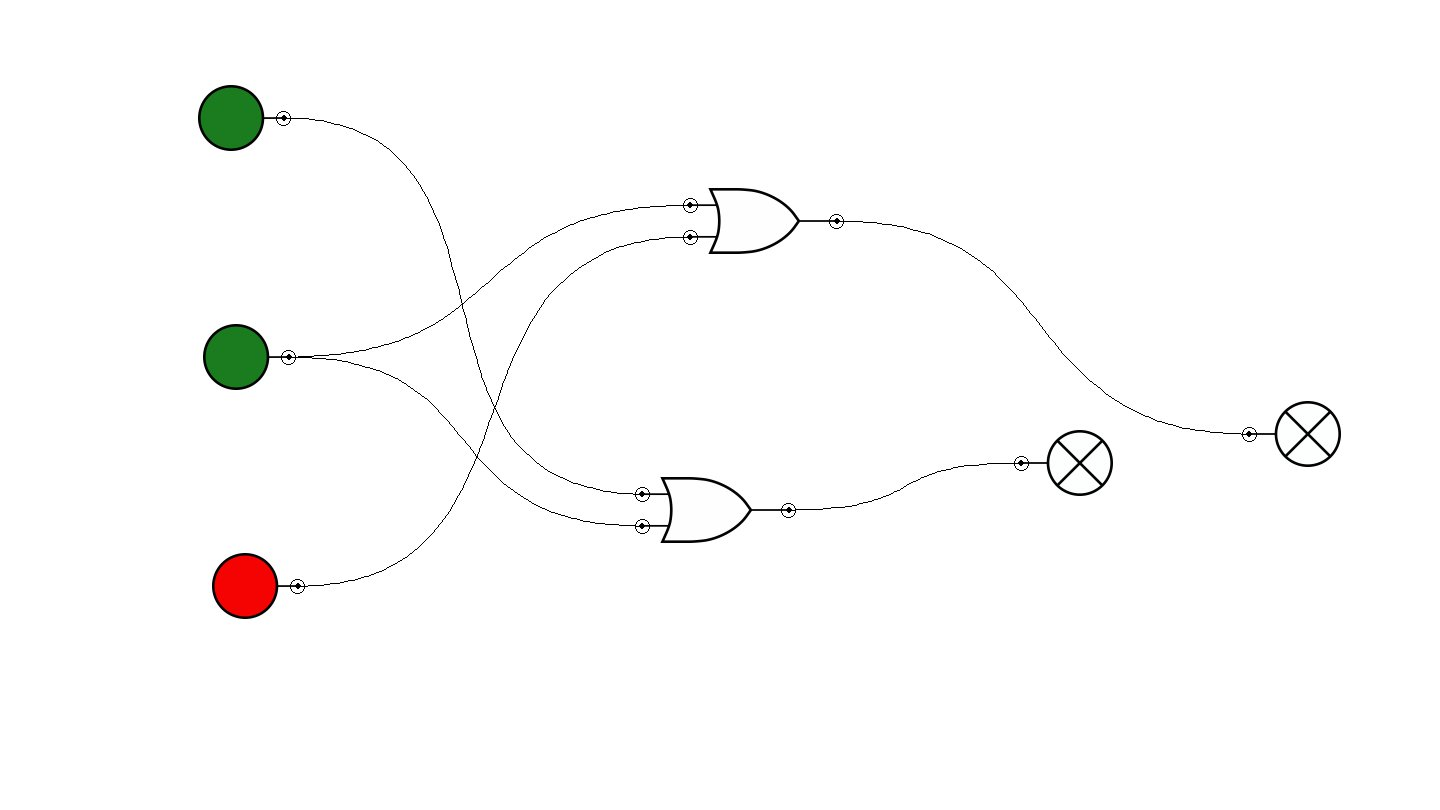bulb: (1014, 430, 1113, 496), (1242, 401, 1341, 467)
or: (683, 188, 844, 254), (635, 477, 796, 543)
switch_False: (212, 553, 305, 619)
switch_True: (198, 85, 291, 151), (203, 324, 296, 390)
